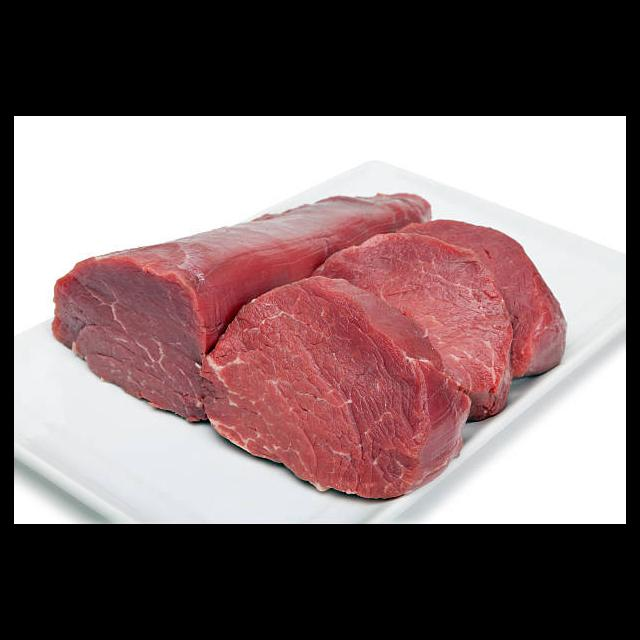beef: (51, 191, 568, 501)
